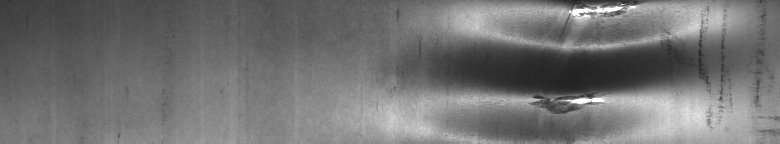ke: (508, 4, 724, 115)
